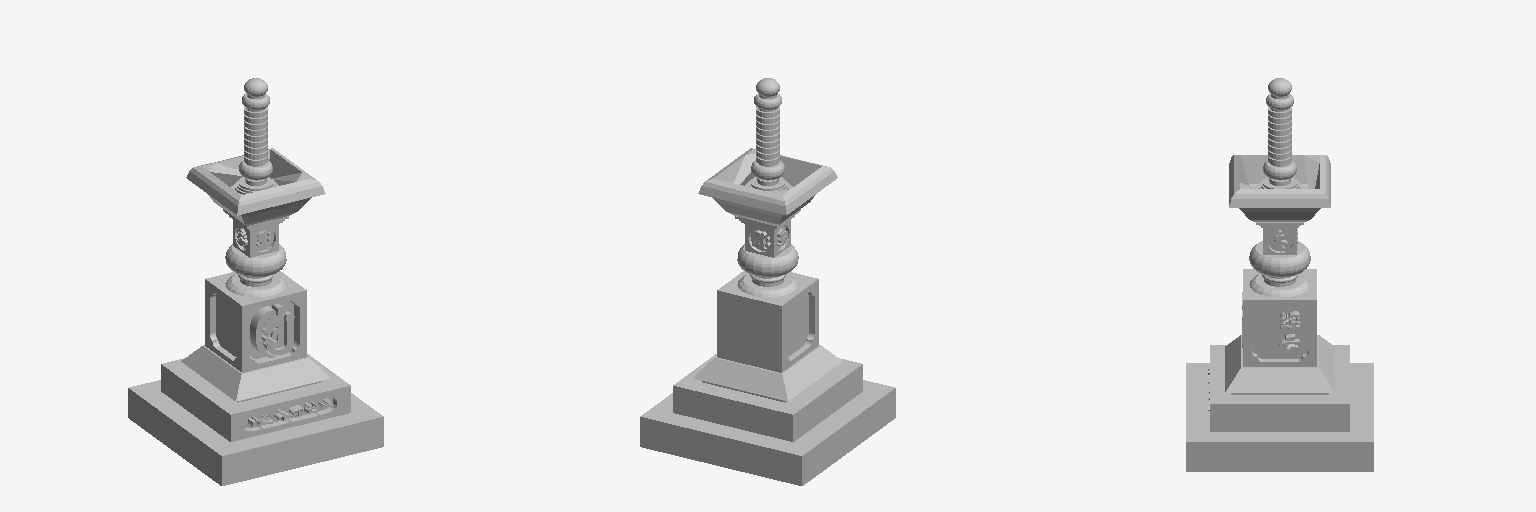
The picture shows the model from 3 angles: view 1: azimuth 30°, elevation 25°; view 2: azimuth 150°, elevation 25°; view 3: azimuth 270°, elevation 25°; orthographic projection.
Visible parts, largest first — view 1: group13 hokyointo3:group1pCube4, group13 pCube23, group13 pCube22, group13 hokyointo3:group1pCube11, group13 hokyointo3:group1pCube12, group13 svgMesh27, group13 hokyointo3:group1pSphere1, group13 pCube19, group13 hokyointo3:pCylinder1group1, group13 svgMesh8; view 2: group13 hokyointo3:group1pCube4, group13 pCube22, group13 pCube23, group13 hokyointo3:group1pCube11, group13 hokyointo3:group1pCube12, group13 hokyointo3:group1pSphere1, group13 pCube19, group13 hokyointo3:pCylinder1group1; view 3: group13 hokyointo3:group1pCube4, group13 pCube23, group13 pCube22, group13 hokyointo3:group1pCube11, group13 hokyointo3:group1pCube12, group13 hokyointo3:group1pSphere1, group13 hokyointo3:pCylinder1group1, group13 pCube19, svgMesh29 group13.
Boxes of the visible parts, <box> form: group13 hokyointo3:group1pCube4: <box>128,380,383,485</box>; group13 pCube23: <box>161,354,350,441</box>; group13 pCube22: <box>205,271,306,372</box>; group13 hokyointo3:group1pCube11: <box>186,148,325,225</box>; group13 hokyointo3:group1pCube12: <box>181,345,330,401</box>; group13 svgMesh27: <box>250,304,294,357</box>; group13 hokyointo3:group1pSphere1: <box>225,244,286,277</box>; group13 pCube19: <box>233,220,278,257</box>; group13 hokyointo3:pCylinder1group1: <box>225,273,286,297</box>; group13 svgMesh8: <box>247,398,333,427</box>; group13 hokyointo3:group1pCube4: <box>640,380,895,485</box>; group13 pCube22: <box>717,271,818,372</box>; group13 pCube23: <box>673,354,862,441</box>; group13 hokyointo3:group1pCube11: <box>698,148,837,225</box>; group13 hokyointo3:group1pCube12: <box>693,345,842,401</box>; group13 hokyointo3:group1pSphere1: <box>737,244,798,277</box>; group13 pCube19: <box>745,220,790,257</box>; group13 hokyointo3:pCylinder1group1: <box>737,273,798,297</box>; group13 hokyointo3:group1pCube4: <box>1186,363,1373,471</box>; group13 pCube23: <box>1210,345,1349,431</box>; group13 pCube22: <box>1243,269,1316,366</box>; group13 hokyointo3:group1pCube11: <box>1229,155,1330,221</box>; group13 hokyointo3:group1pCube12: <box>1225,335,1334,392</box>; group13 hokyointo3:group1pSphere1: <box>1249,241,1310,277</box>; group13 hokyointo3:pCylinder1group1: <box>1249,274,1310,297</box>; group13 pCube19: <box>1263,228,1296,254</box>; svgMesh29 group13: <box>1279,311,1300,350</box>.
Bounding box in the file's own units: 8.55 × 17.78 × 8.55.